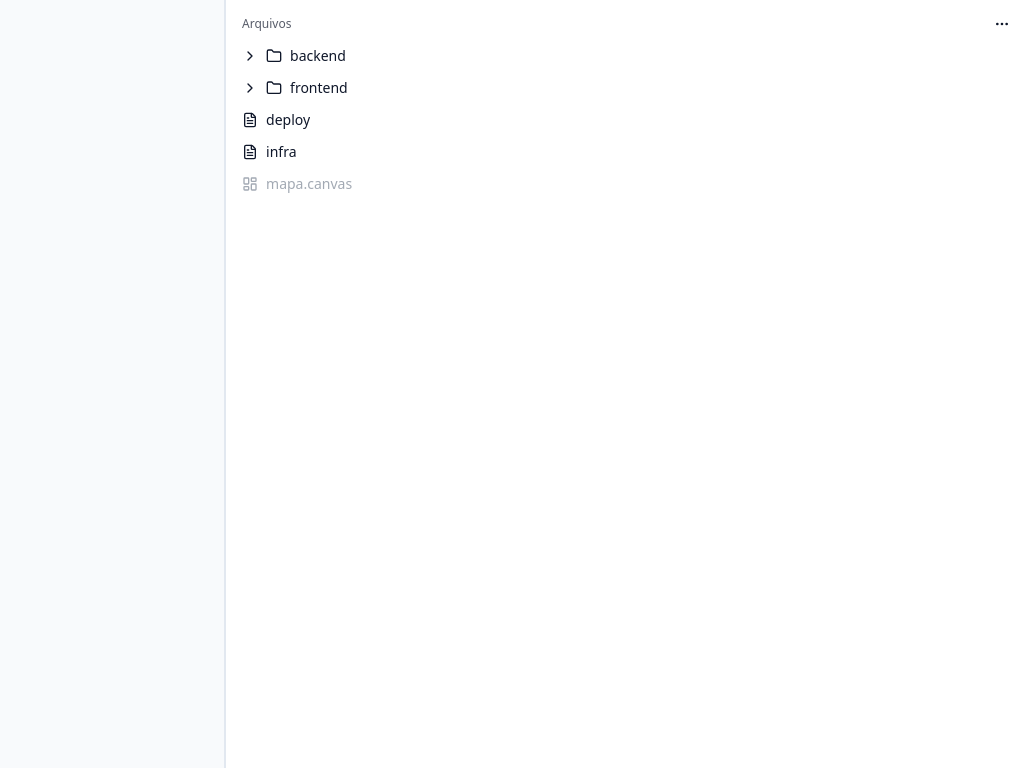
Test: renomear › CA-NOTA-006-01 — renomear backend/util para api é bloqueado e o disco não muda
Step 1. Click the button "backend" → (318, 56), box left=234, top=40, right=1016, bottom=72
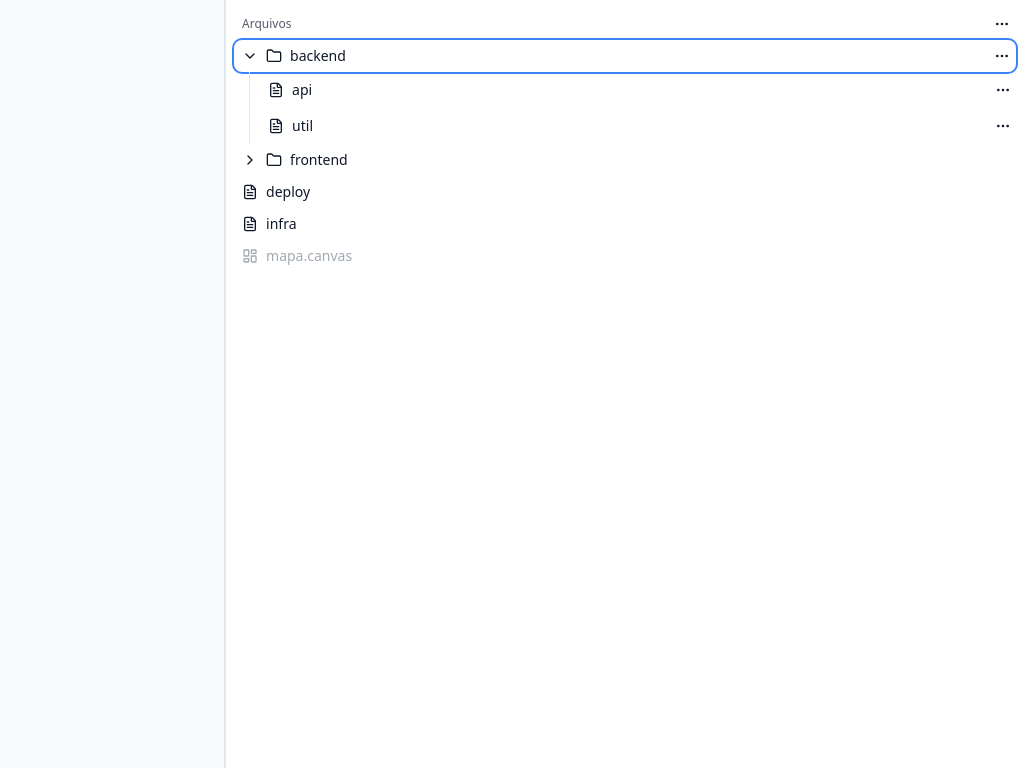
Step 2. Click the button named "Ações de util" → (1003, 126), box left=993, top=116, right=1013, bottom=136
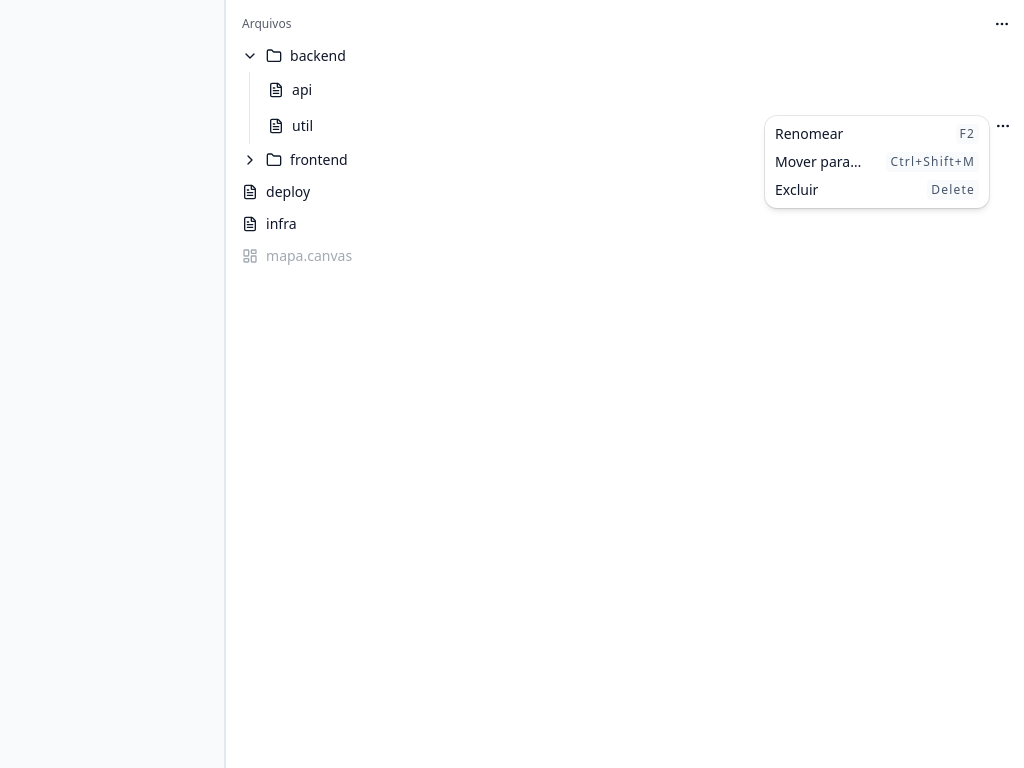
Step 3. Click the menu item "Renomear F2" → (809, 134), box left=769, top=120, right=985, bottom=148
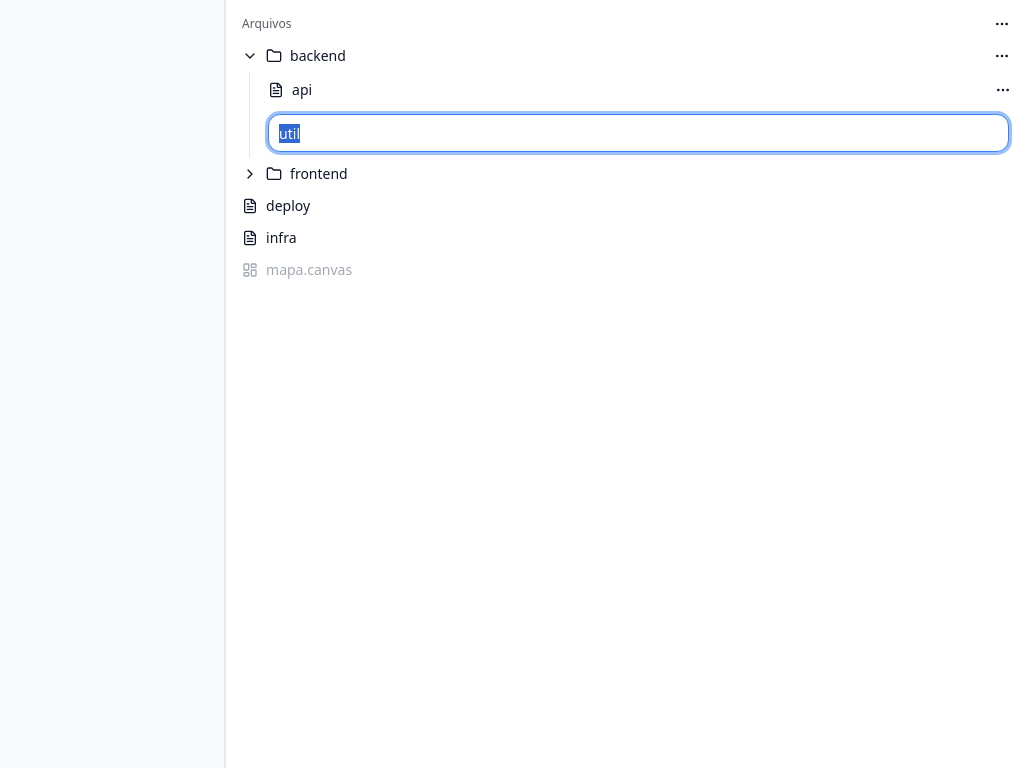
Step 4. Replace the text in the field named "Novo nome de util" with "api" → (639, 133), box left=268, top=114, right=1009, bottom=152
Then press Enter
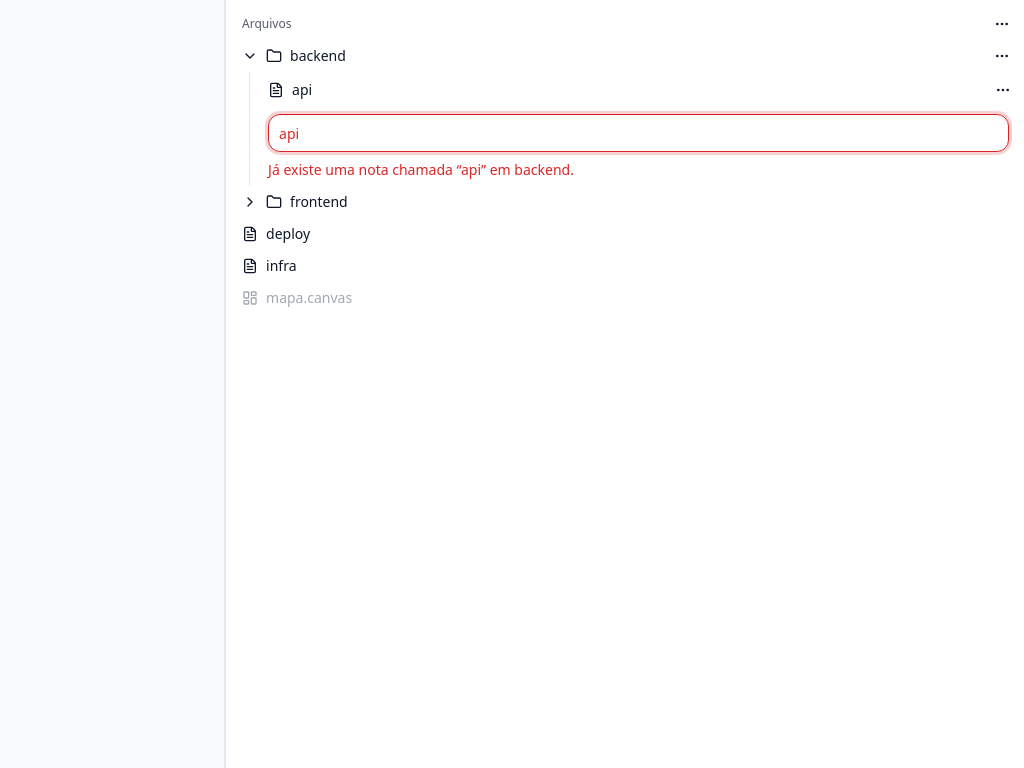
expect the text "Já existe uma nota chamada “api” em backend." is shown: met, box left=268, top=160, right=574, bottom=179
